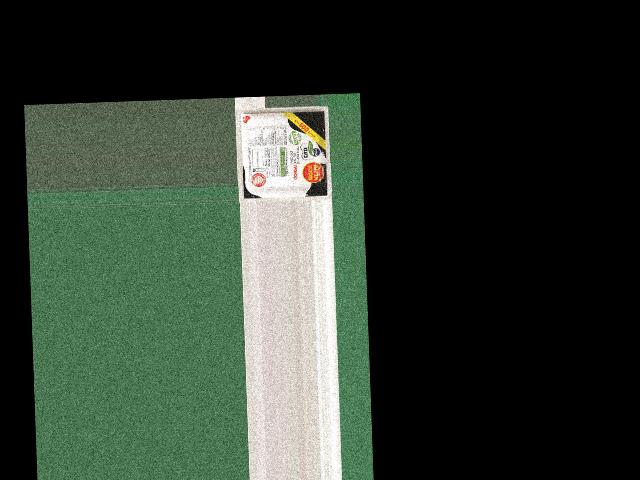cheese: (242, 106, 325, 199)
